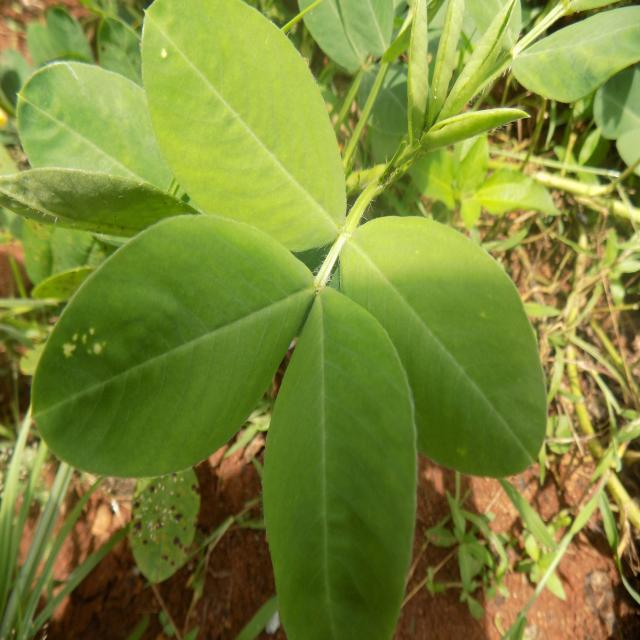Ground nut_healthy: (28, 207, 316, 474), (344, 212, 547, 480), (264, 287, 416, 640), (138, 2, 346, 245), (19, 56, 242, 232)
